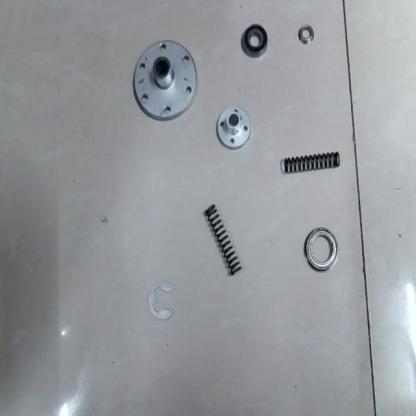FOD: (133, 37, 198, 122), (202, 201, 244, 281), (302, 225, 340, 277), (280, 146, 343, 176), (215, 102, 252, 152), (147, 280, 177, 325), (239, 21, 269, 60), (297, 23, 316, 47)
